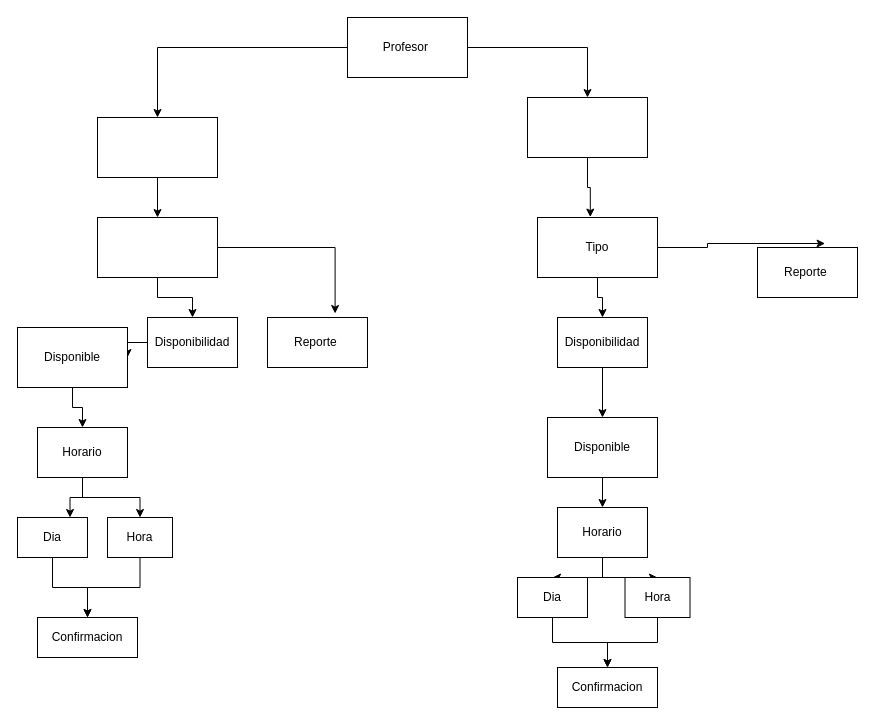
The diagram is 875 pixels wide and 725 high, and some of its shapes have lost their labels. The shapes that lost their labels are listed below. From the top down, each one's centre as x and y in pixels, then its label:
At pixel 157 147: "Reserva Laboratorio".
At pixel 587 127: "Herramientas".
At pixel 157 247: "Numero Laboratorio".
